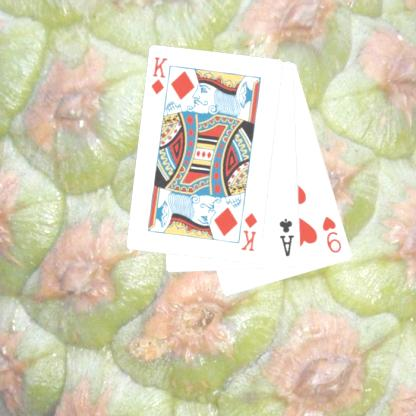9H: (320, 213, 344, 255)
AC: (277, 216, 296, 258)
KD: (238, 210, 259, 253), (148, 54, 168, 96)
